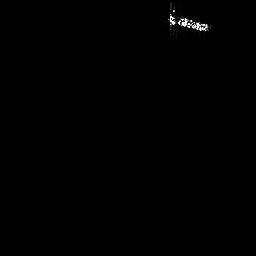ship: (165, 1, 213, 36)
